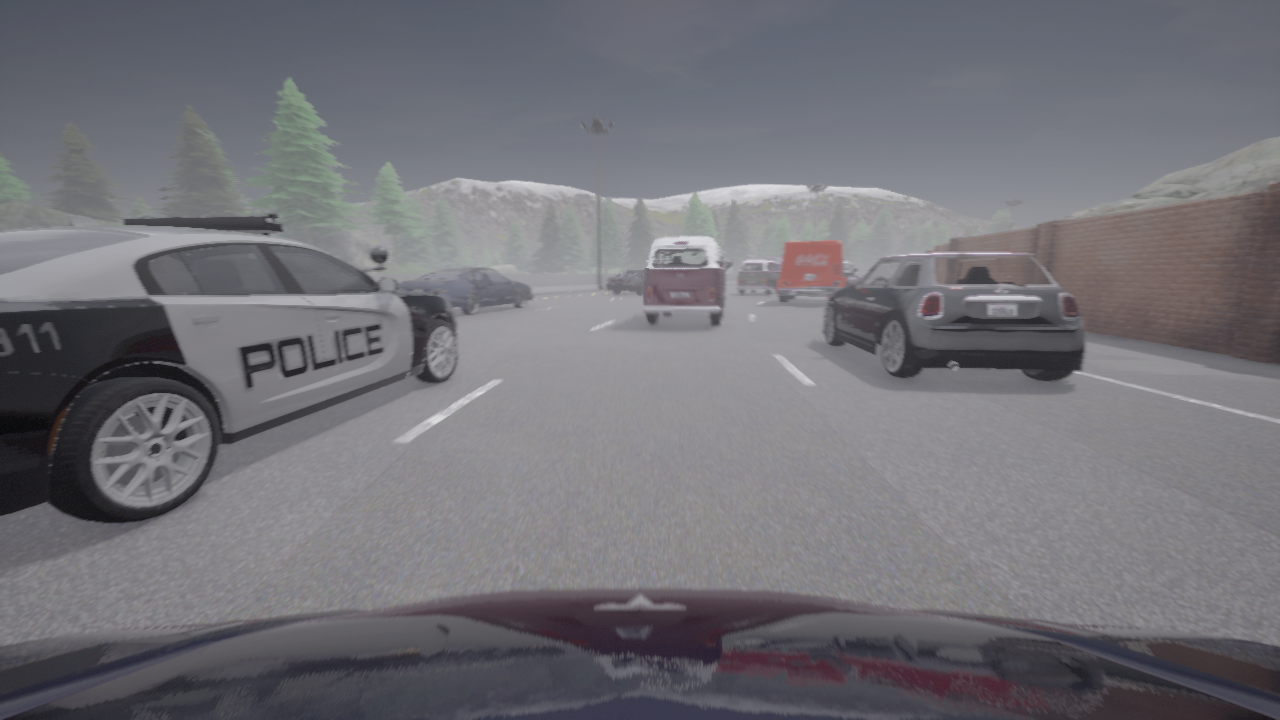cyclist: (0, 588, 1279, 719), (0, 213, 457, 523), (823, 251, 1084, 380), (642, 236, 731, 325), (398, 267, 532, 315), (777, 241, 845, 302), (737, 259, 781, 294), (606, 270, 644, 293), (843, 261, 856, 277), (759, 257, 782, 266)
